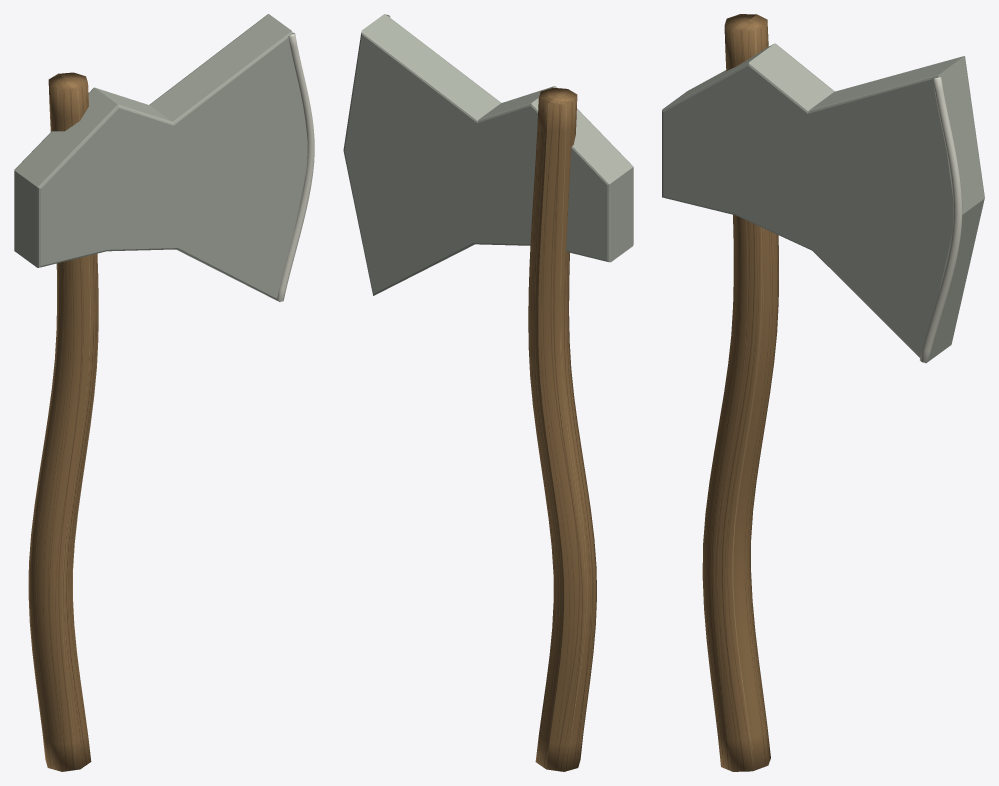
The model's file is props_p8__p8_axe.glb.
3 views of the same model, side by side, from view 1: azimuth 30°, elevation 25°; view 2: azimuth 150°, elevation 25°; view 3: azimuth 330°, elevation 25° (orthographic). The views are drawn at different scales.
Parts seen in each view (by area): view 1: axe_head, axe_handle, axe_cutting_edge; view 2: axe_head, axe_handle; view 3: axe_head, axe_handle, axe_cutting_edge.
Part boxes in pixels (x1=…): axe_head: x1=14, y1=14, x2=307, y2=301; axe_handle: x1=28, y1=72, x2=98, y2=771; axe_cutting_edge: x1=276, y1=32, x2=314, y2=301; axe_head: x1=343, y1=14, x2=633, y2=295; axe_handle: x1=528, y1=87, x2=596, y2=771; axe_head: x1=662, y1=43, x2=984, y2=363; axe_handle: x1=702, y1=14, x2=778, y2=771; axe_cutting_edge: x1=920, y1=76, x2=962, y2=362.
Size of the model in its own units: 0.2579 by 0.625 by 0.0614.
Materials: 3 (1 with a texture image).
